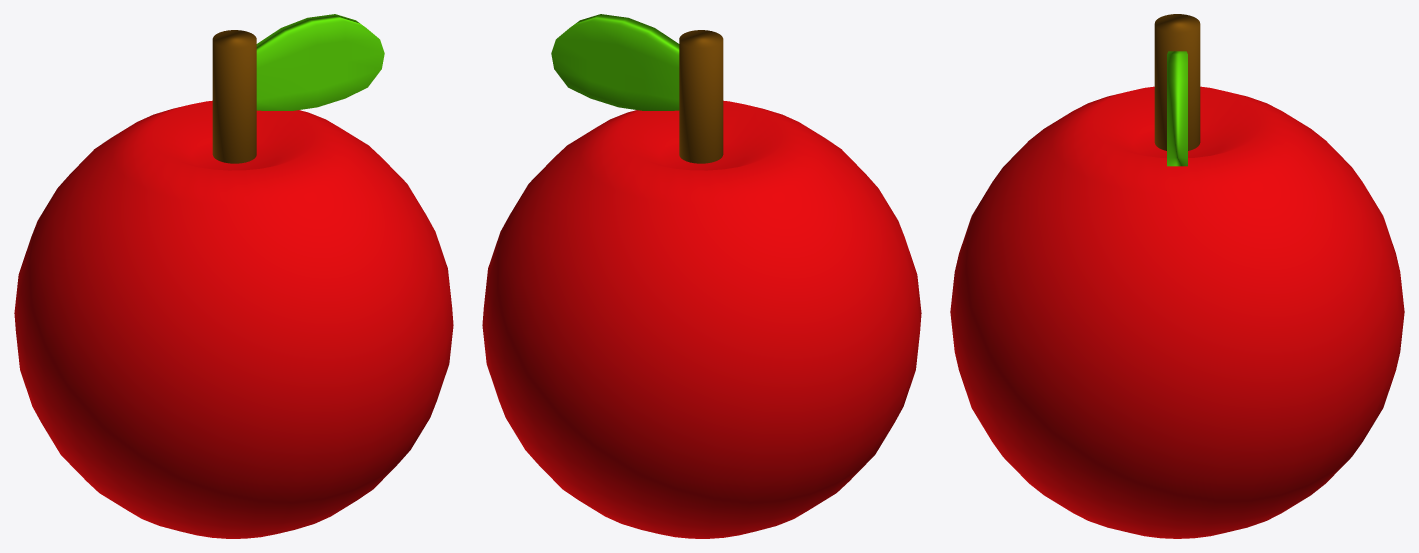
The model's file is Apple.fbx.
3 views of the same model, side by side, from view 1: azimuth 30°, elevation 25°; view 2: azimuth 150°, elevation 25°; view 3: azimuth 270°, elevation 25° (orthographic). The views are drawn at different scales.
Parts seen in each view (by area): view 1: 球, 立方体, 円柱; view 2: 球, 立方体, 円柱; view 3: 球, 円柱, 立方体.
Part boxes in pixels (<box>): 球: <box>14,100,453,538</box>; 立方体: <box>256,14,384,110</box>; 円柱: <box>212,30,256,163</box>; 球: <box>482,100,921,538</box>; 立方体: <box>551,14,679,110</box>; 円柱: <box>679,30,723,163</box>; 球: <box>950,86,1404,538</box>; 円柱: <box>1154,14,1200,150</box>; 立方体: <box>1167,51,1187,166</box>.
Bounding box in the file's own units: 200 × 240 × 200.
